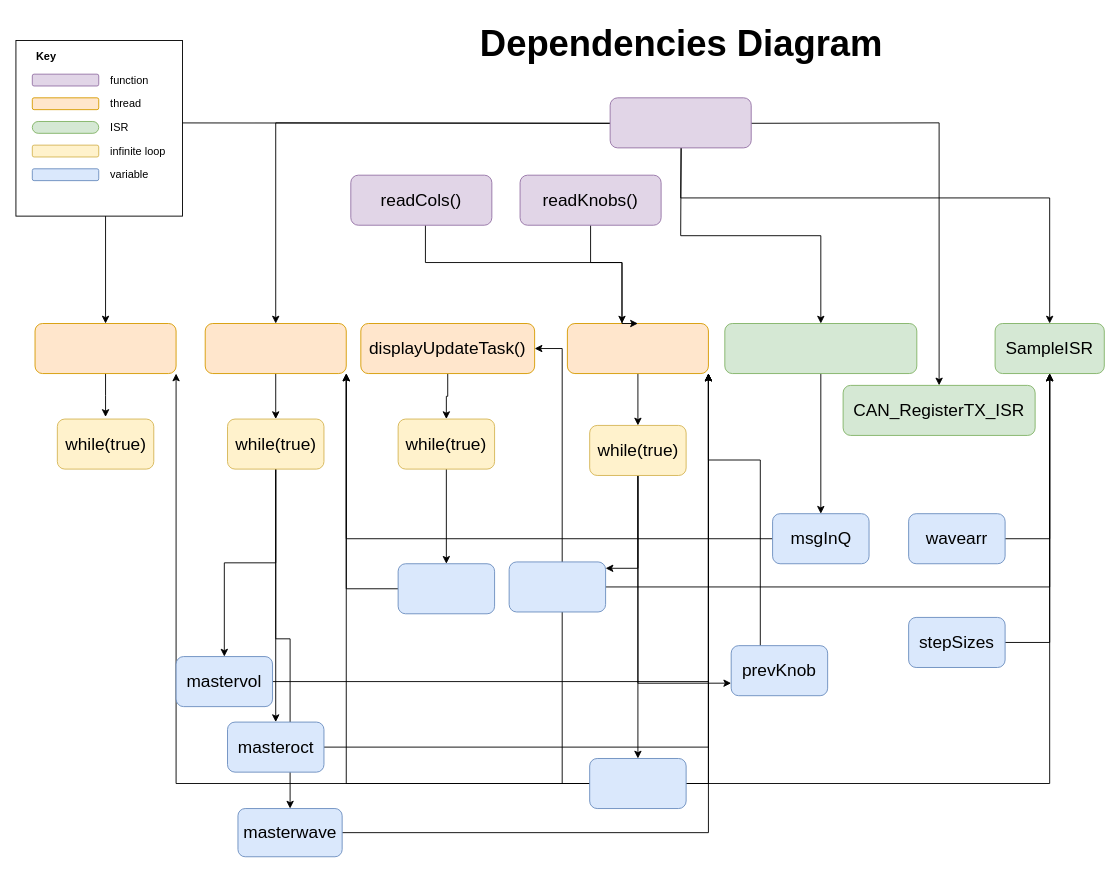
Image size: 1120x873. Some labels were removed from this diagram. The centre of each missing label's shape, as x and y in pixels:
"CAN_RegisterRX_ISR" goes at (x=820, y=348).
"CAN_TX_Task()" goes at (x=105, y=348).
"decodeTask()" goes at (x=275, y=348).
"KeyVal" goes at (x=557, y=586).
"knobCount" goes at (x=637, y=783).
"leftpos" goes at (x=446, y=588).
"scanKeysTask()" goes at (x=637, y=348).
"setup()" goes at (x=680, y=122).
